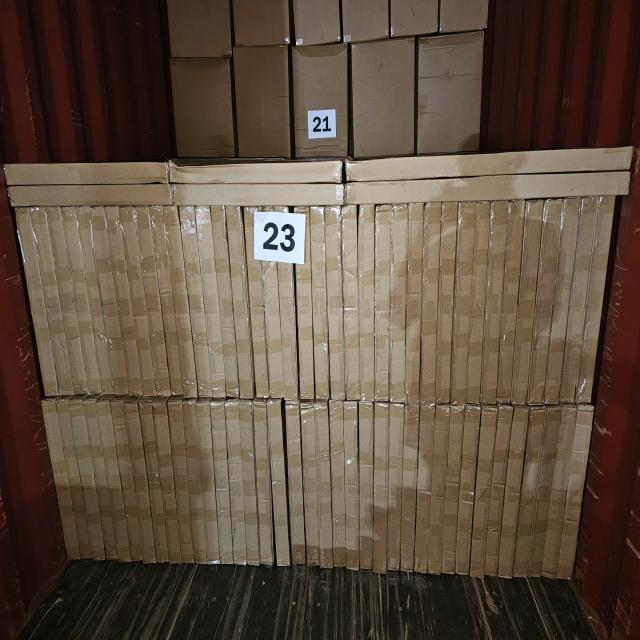Carton: (16, 198, 188, 396), (504, 197, 612, 405), (178, 200, 249, 398), (520, 406, 594, 580), (418, 31, 483, 155), (350, 41, 414, 161), (596, 2, 640, 148), (172, 55, 234, 158), (235, 44, 291, 158), (292, 44, 347, 158), (142, 402, 176, 570), (224, 400, 256, 568), (301, 403, 332, 575), (332, 403, 362, 576), (416, 404, 446, 576), (189, 402, 215, 572), (168, 0, 234, 60), (269, 402, 291, 568), (476, 404, 496, 583), (461, 404, 479, 581), (176, 400, 194, 568), (258, 401, 276, 567), (287, 403, 304, 573), (444, 404, 460, 578), (384, 403, 400, 575), (402, 403, 418, 574), (370, 403, 386, 573), (233, 0, 292, 46), (295, 1, 343, 46), (342, 0, 390, 42), (390, 0, 440, 36), (441, 1, 494, 34)
